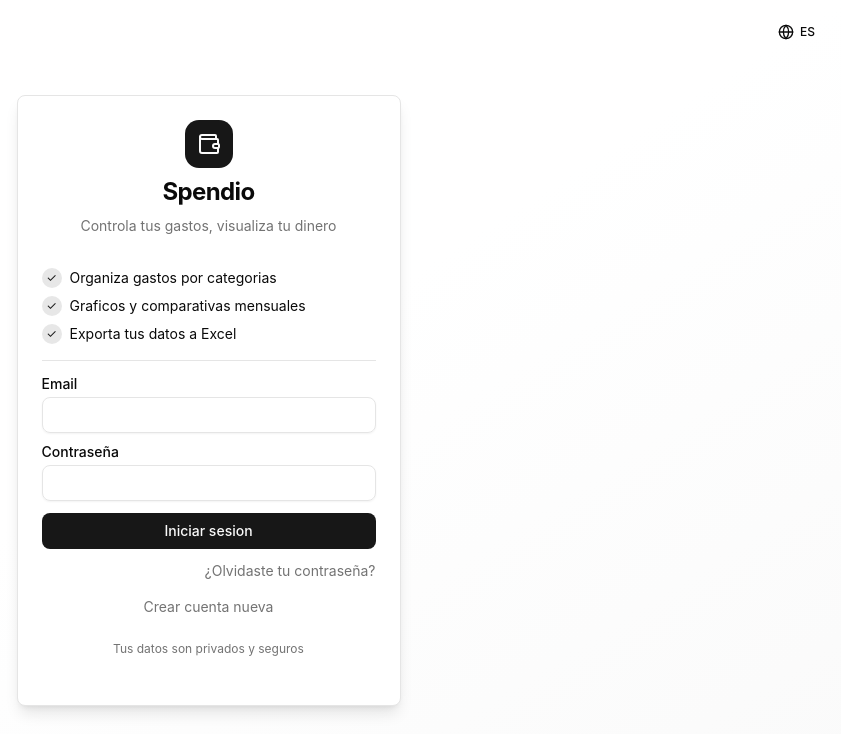
Test: AuthLayout › lets a visitor change the language before signing in
Expected: the button "Iniciar sesion" is shown, [42,512,376,548]
Click the button with aria-label "Idioma" at (796, 32), box [768,16,825,48]
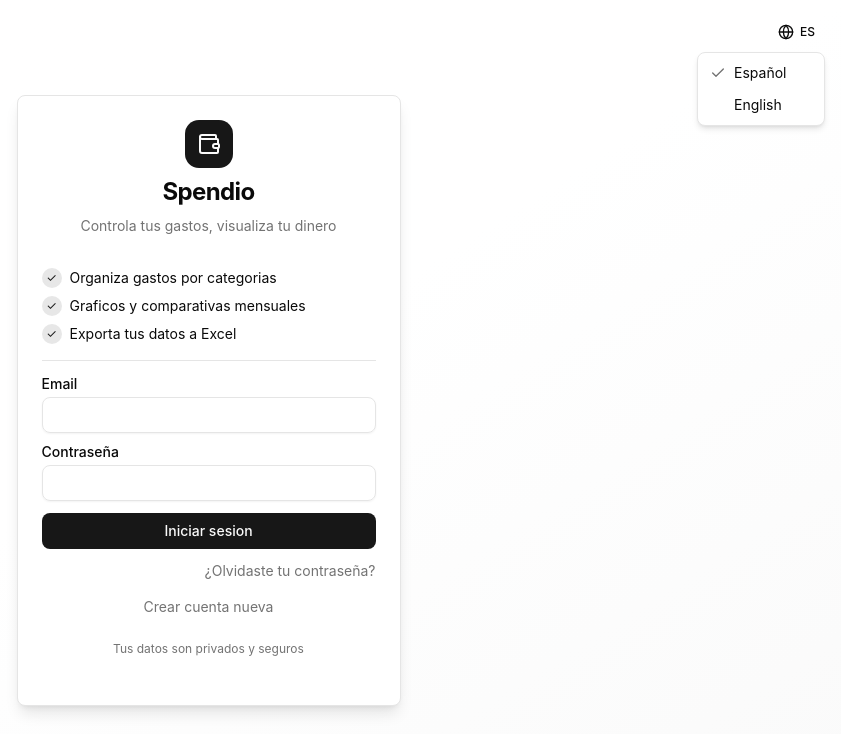
Click the menu item "English" at (758, 104), box [734,96,782,113]
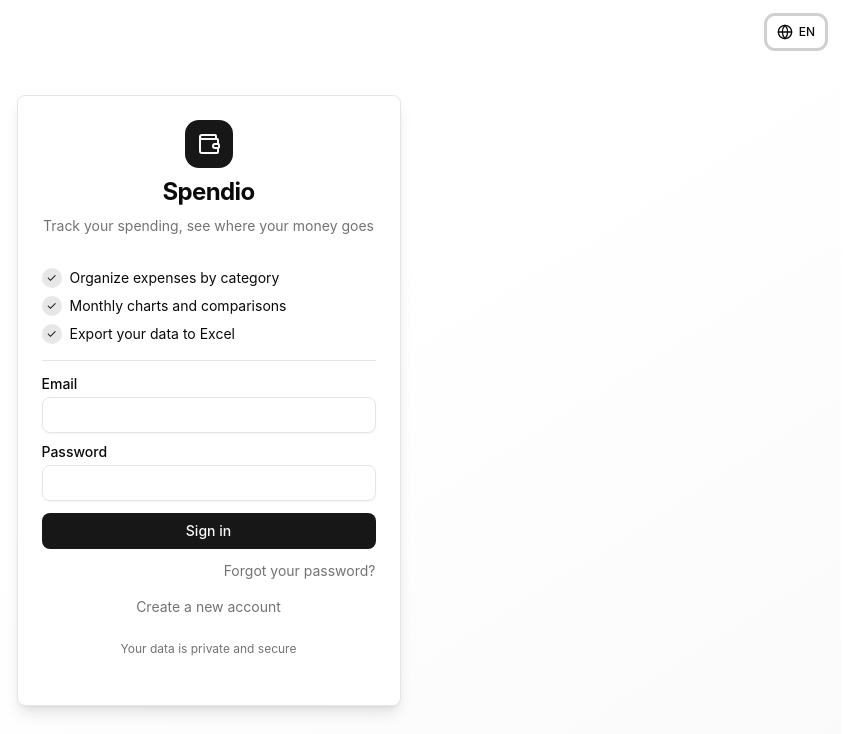
Result: the button "Sign in" is shown at [42,512,376,548]
Result: the text "Your data is private and secure" is shown at [121,640,296,656]
